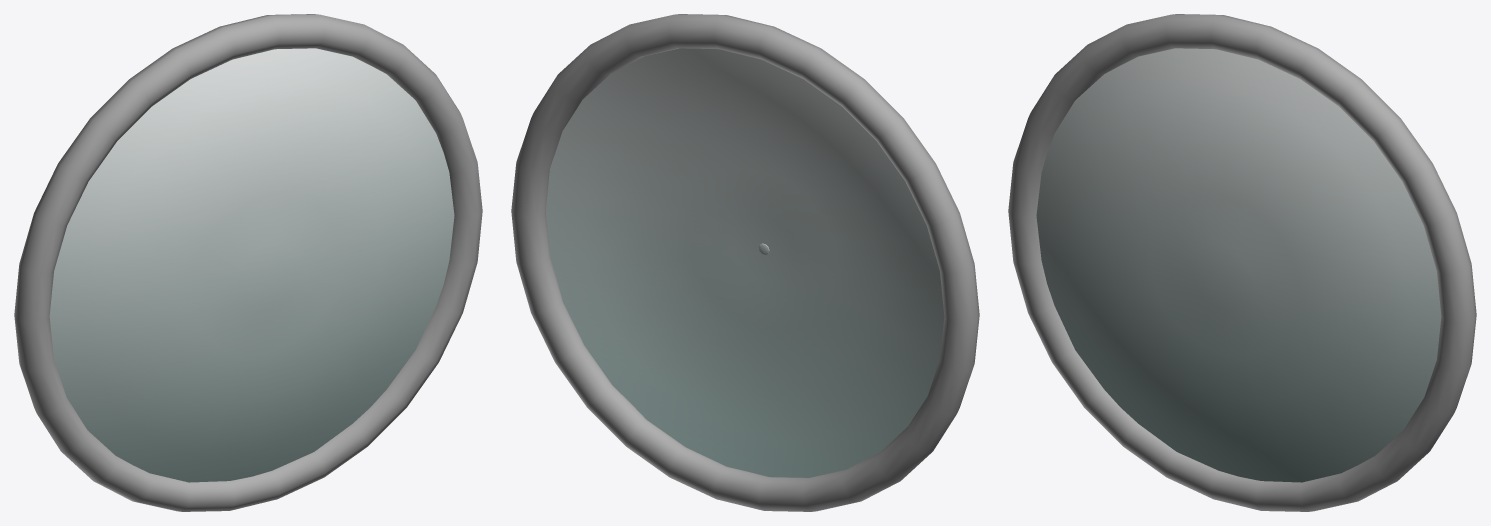
Rendered from shield.fbx.
3 renders of one model, left to right at view 1: azimuth 30°, elevation 25°; view 2: azimuth 150°, elevation 25°; view 3: azimuth 330°, elevation 25°, orthographic.
Parts seen in each view (by area): view 1: shield; view 2: shield; view 3: shield.
Boxes of the visible parts, x1,y1,x2,y2 form: shield: (14, 14, 482, 511); shield: (511, 14, 979, 511); shield: (1008, 14, 1476, 511).
Size of the model in its own units: 84.4 by 83.94 by 8.74.
2 materials, 1 textured.
